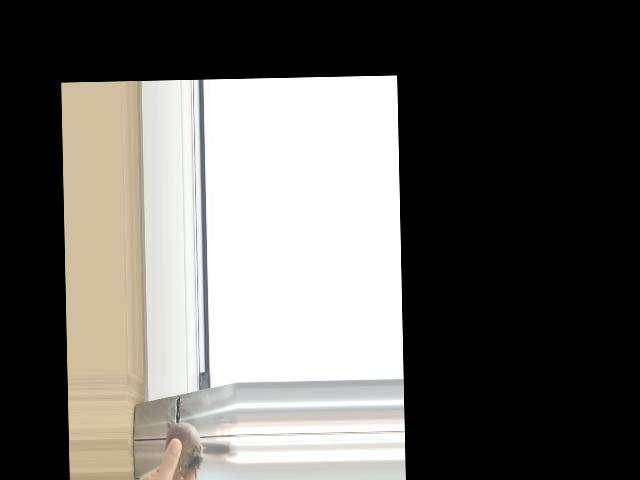beet: (165, 413, 203, 480)
